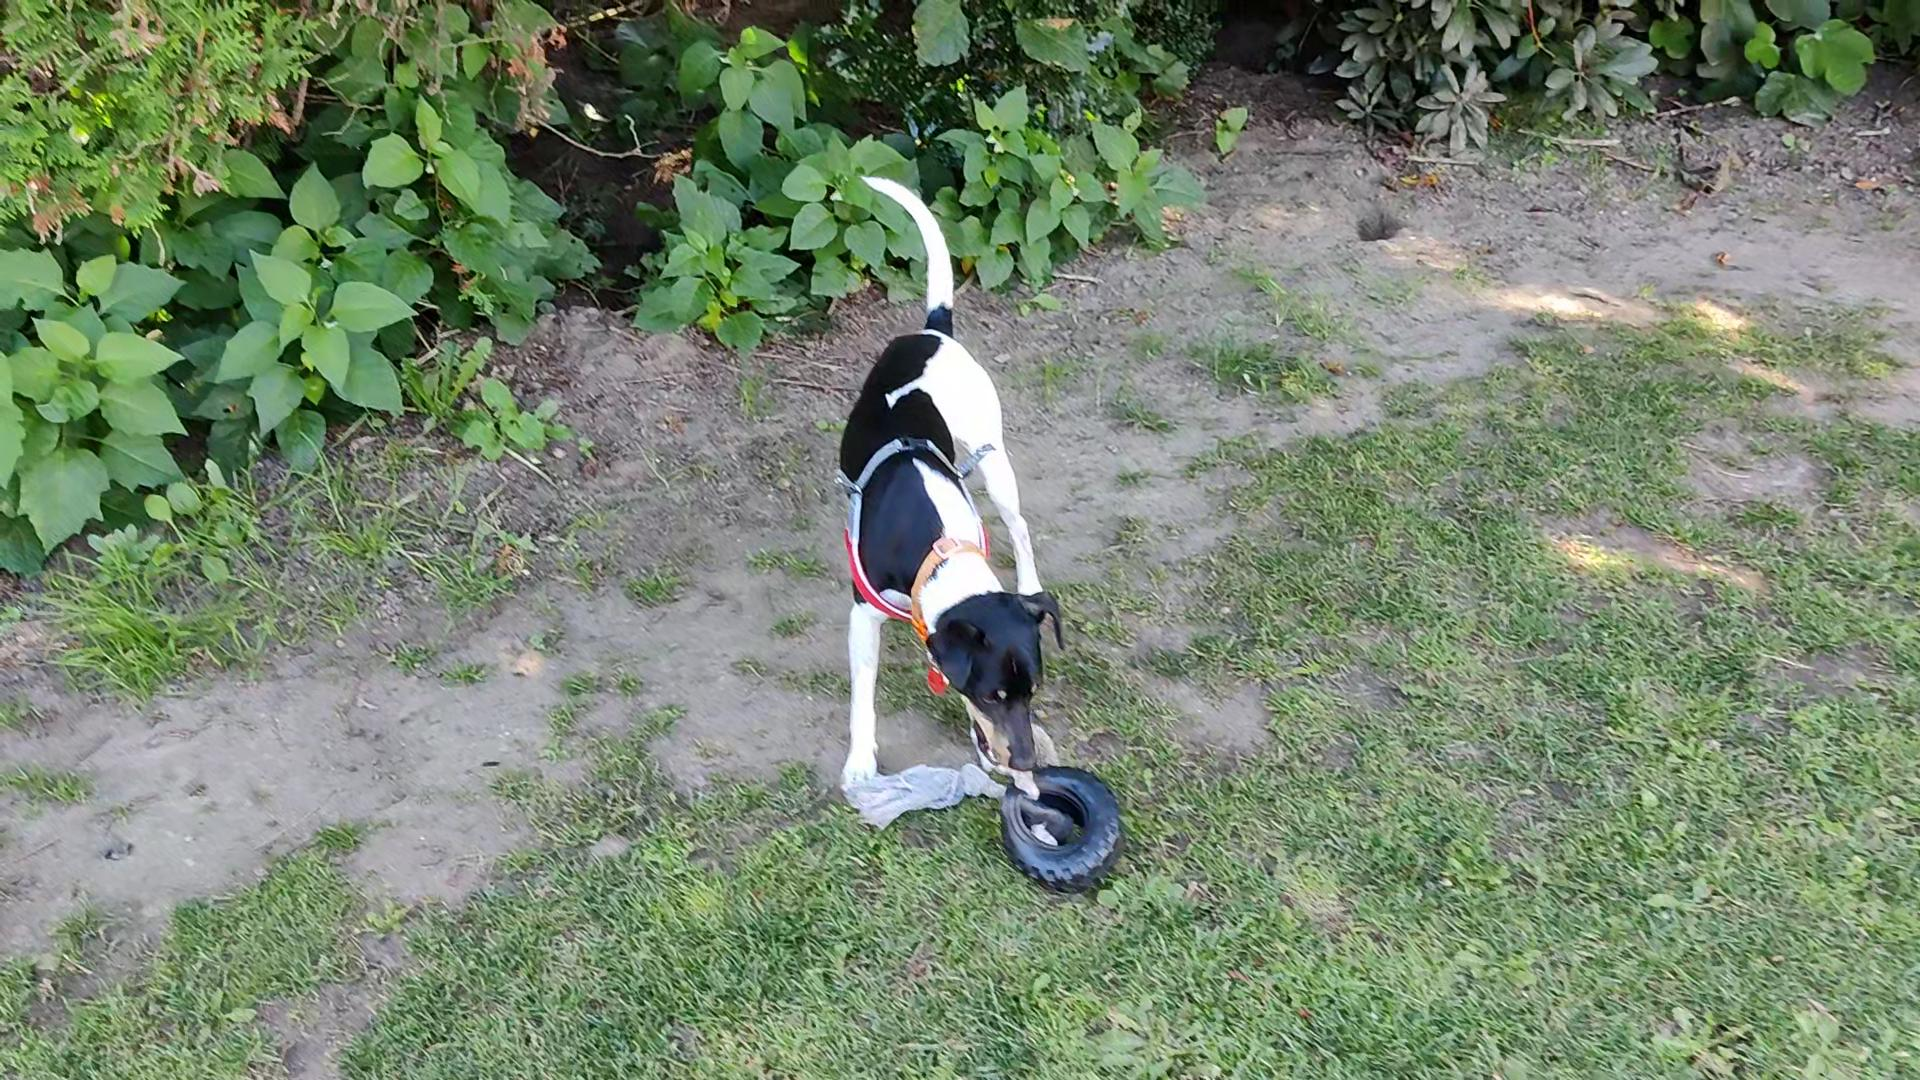Dog: (808, 173, 1077, 795)
